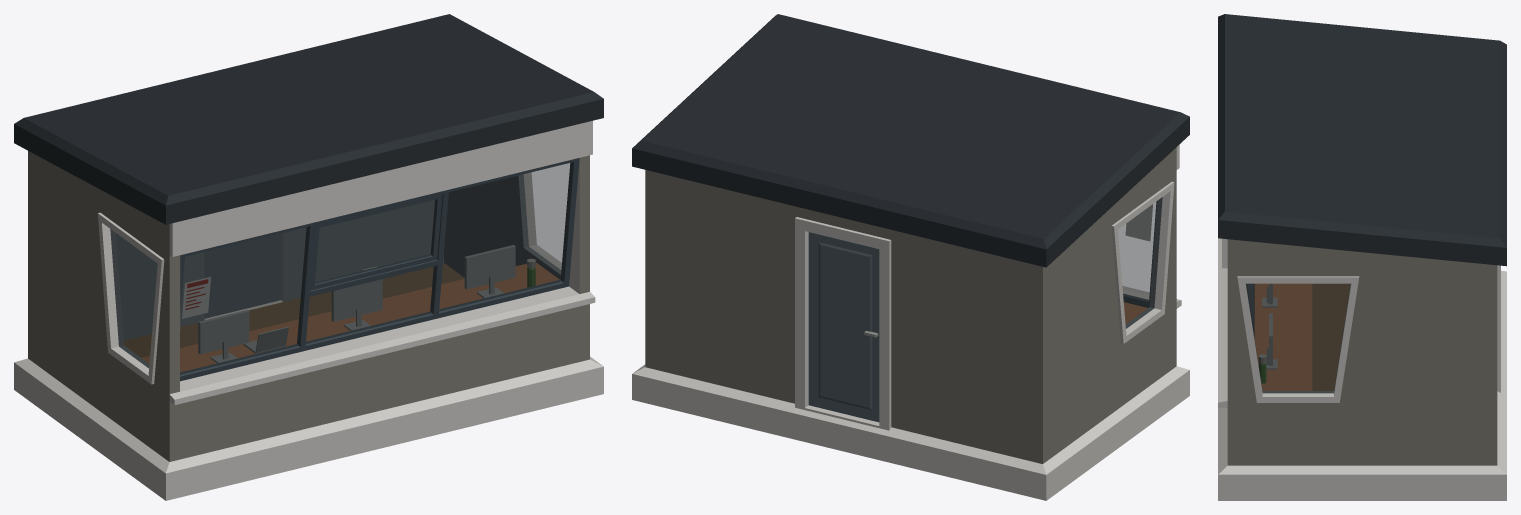
File: wise.glb
3 renders of one model, left to right at view 1: azimuth 30°, elevation 25°; view 2: azimuth 150°, elevation 25°; view 3: azimuth 270°, elevation 25°, orthographic. The views are drawn at different scales.
Parts seen in each view (by area): view 1: press-box-shell, glazing, flap-glass, door-leaf, flap-sash, team-sheet-mesh, laptop-mesh; view 2: press-box-shell, door-leaf, glazing, team-sheet-mesh; view 3: press-box-shell, glazing.
Part boxes in pixels (x1=…): press-box-shell: x1=14, y1=14, x2=603, y2=500; glazing: x1=110, y1=162, x2=572, y2=374; flap-glass: x1=315, y1=199, x2=436, y2=283; door-leaf: x1=204, y1=233, x2=281, y2=318; flap-sash: x1=310, y1=194, x2=442, y2=290; team-sheet-mesh: x1=182, y1=277, x2=210, y2=318; laptop-mesh: x1=243, y1=327, x2=288, y2=353; press-box-shell: x1=632, y1=14, x2=1189, y2=500; door-leaf: x1=808, y1=232, x2=879, y2=422; glazing: x1=1118, y1=197, x2=1162, y2=328; team-sheet-mesh: x1=1125, y1=204, x2=1152, y2=241; press-box-shell: x1=1218, y1=14, x2=1506, y2=500; glazing: x1=1246, y1=283, x2=1350, y2=393.
Size of the model in its own units: 5 by 3.28 by 3.
